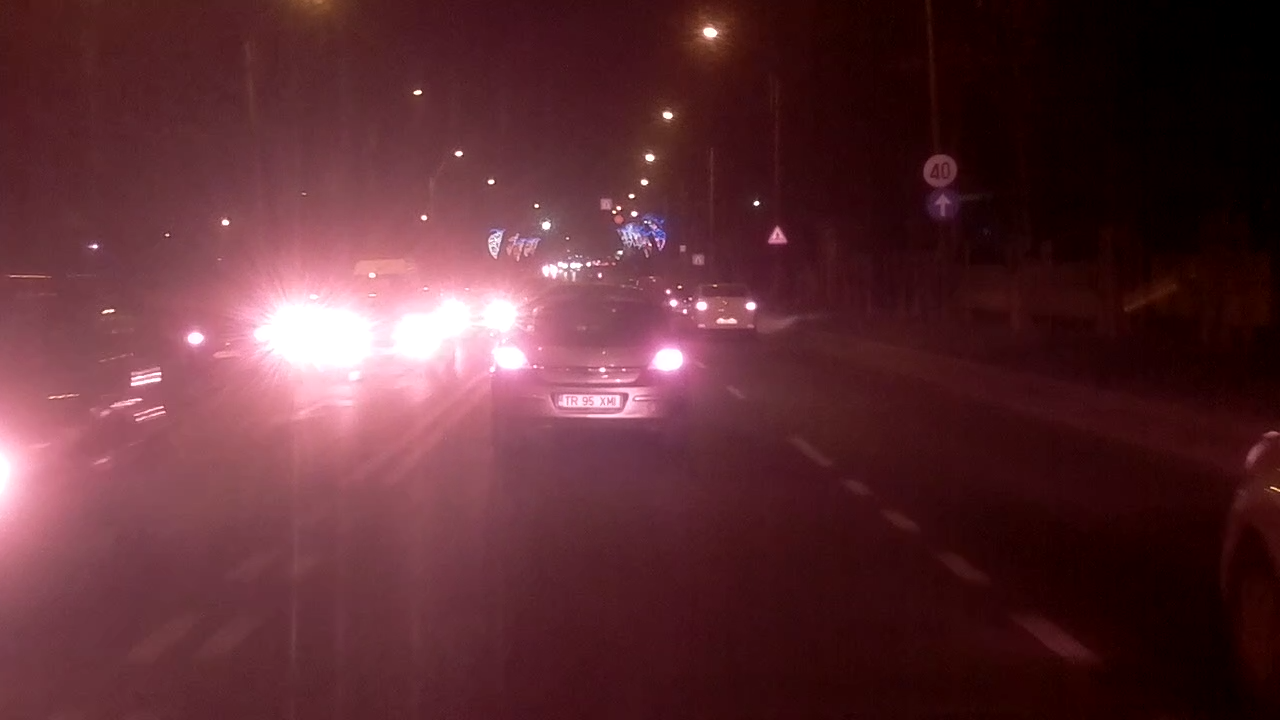license-plate: (553, 389, 625, 411)
